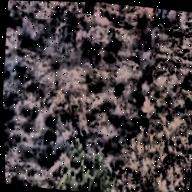boar: (114, 75, 125, 99)
